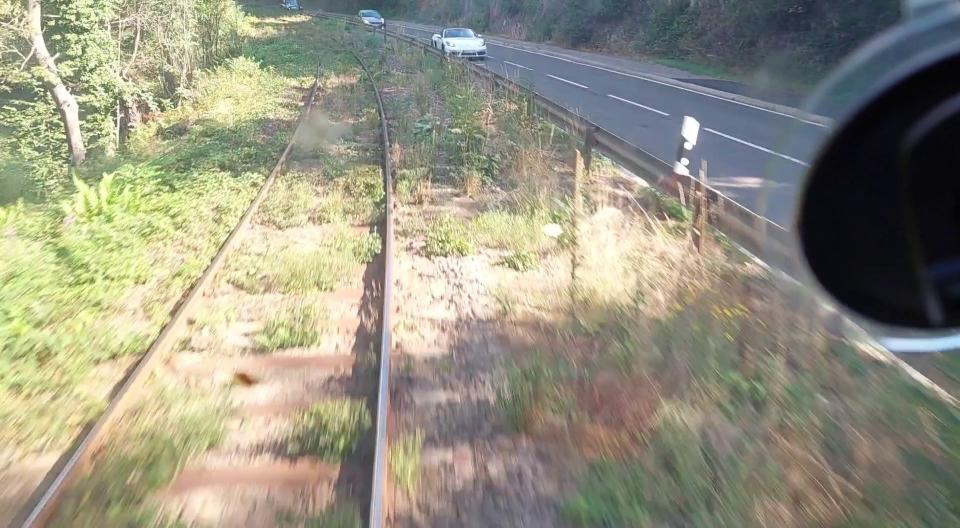Plant: (374, 46, 960, 528), (0, 22, 316, 521), (253, 40, 384, 229), (64, 388, 232, 528), (226, 226, 380, 294), (284, 396, 370, 463), (254, 303, 322, 351), (189, 302, 242, 350), (388, 429, 422, 499), (297, 501, 363, 528)
